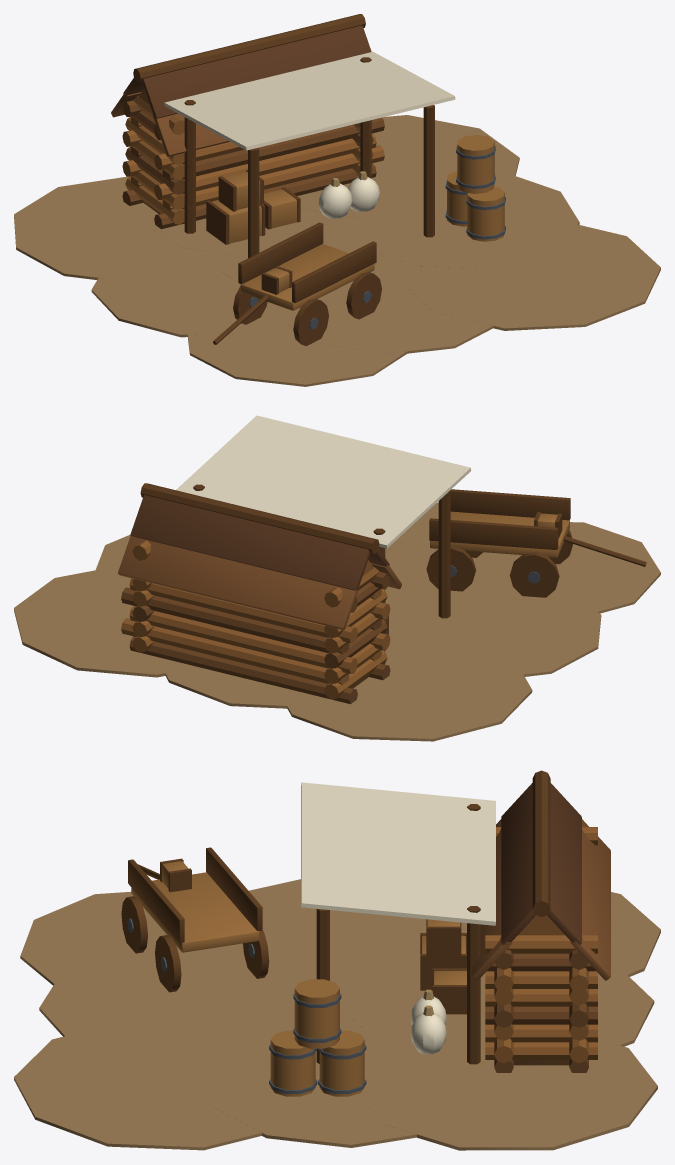
Rendered from magazyn_poz04.glb.
3 views of the same model, one above another, from view 1: azimuth 30°, elevation 25°; view 2: azimuth 150°, elevation 25°; view 3: azimuth 270°, elevation 25° (orthographic). The views are drawn at different scales.
Parts seen in each view (by area): view 1: magazyn_poz04; view 2: magazyn_poz04; view 3: magazyn_poz04.
Part boxes in pixels (bbox=[...]): magazyn_poz04: bbox=[14, 14, 660, 386]; magazyn_poz04: bbox=[14, 415, 660, 741]; magazyn_poz04: bbox=[14, 770, 660, 1150].
Size of the model in its own units: 8.55 by 2.64 by 8.6.
